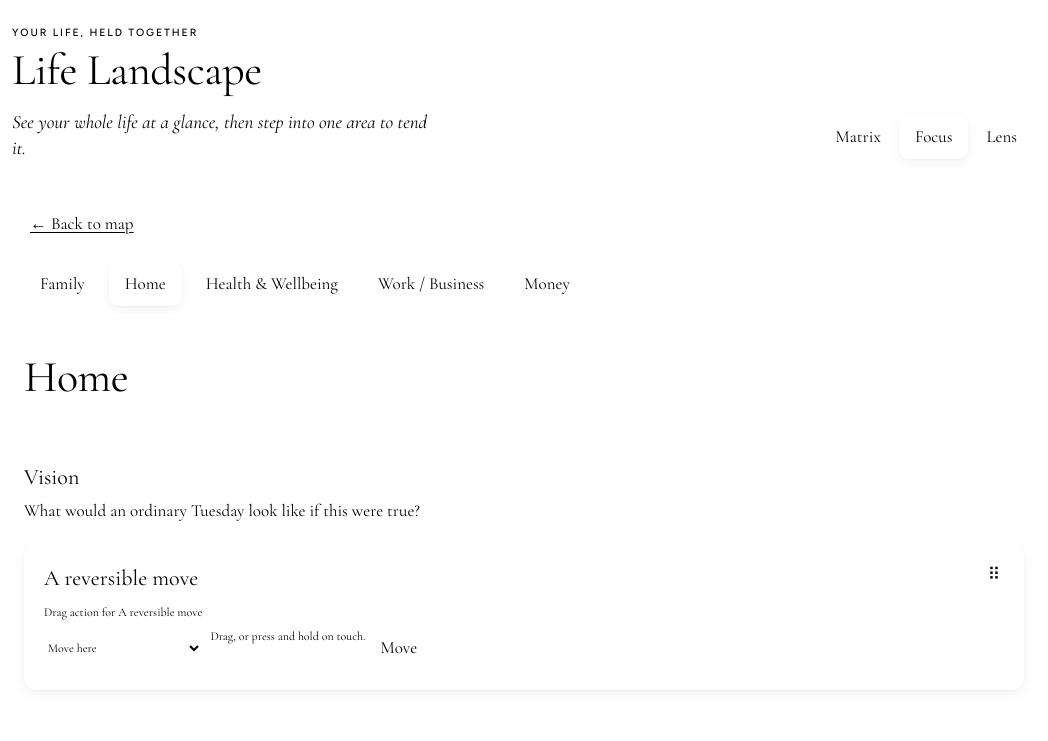
Test: LandscapePage › preserves Undo and reports a conflict when reversal fails
Click the button with aria-label "Move A reversible move" at (399, 648), box [373,626,424,670]
(page scrolled)
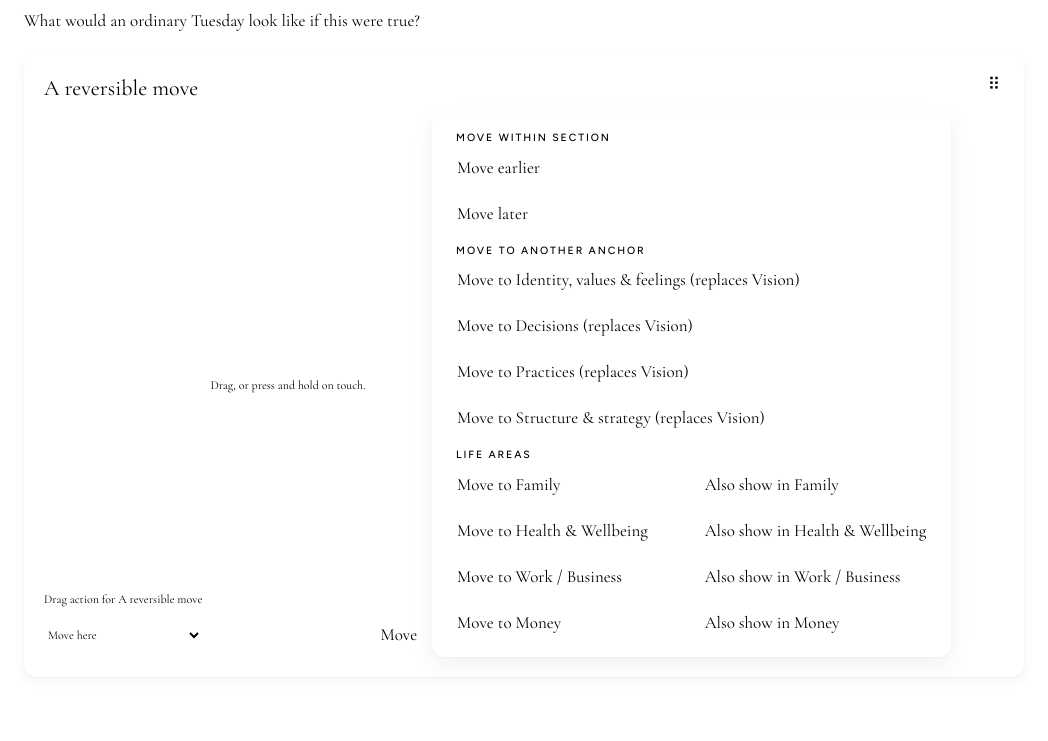
Click the menu item "Move to Practices (replaces Vision)" at (486, 372), box [444,350,939,394]
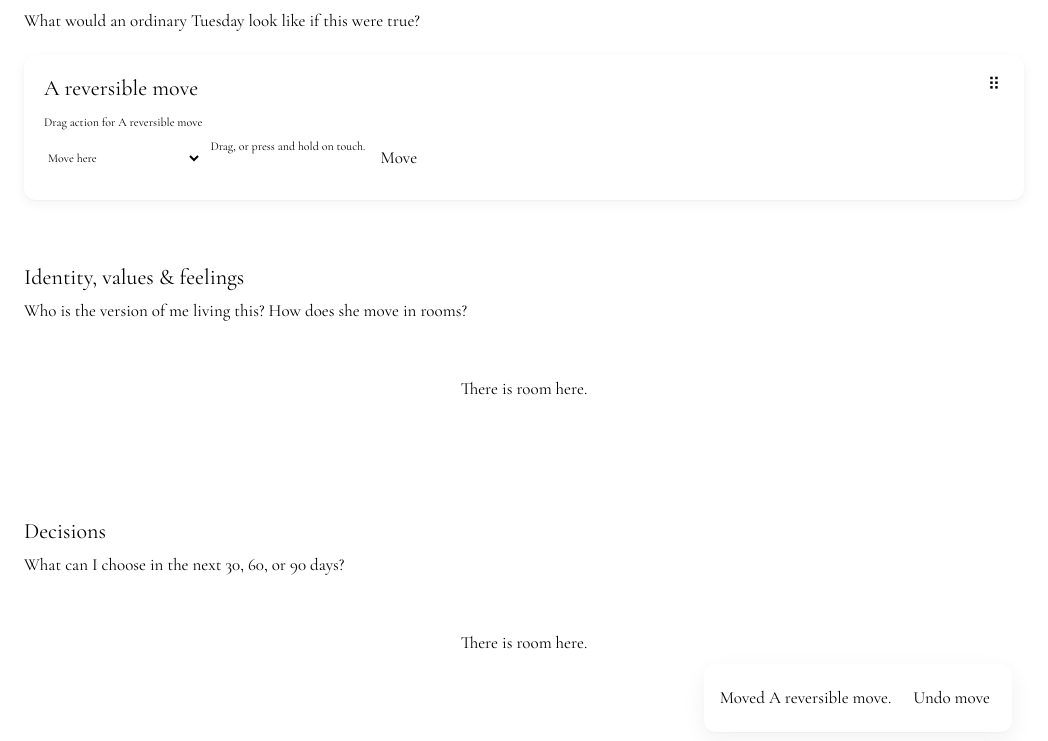
Click the button "Undo move" at (952, 698), box [907,676,996,720]
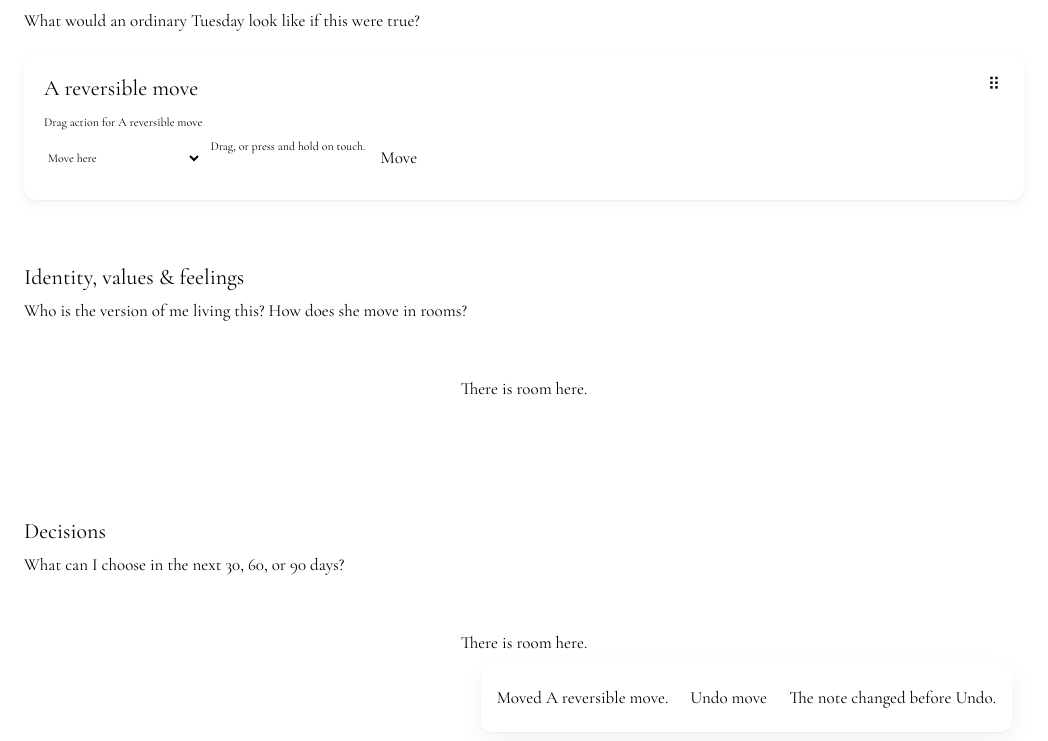
Check: the button "Undo move" is shown, box [685,676,773,720]
Check: the message reads "The note changed before Undo.", box [789,687,996,708]
